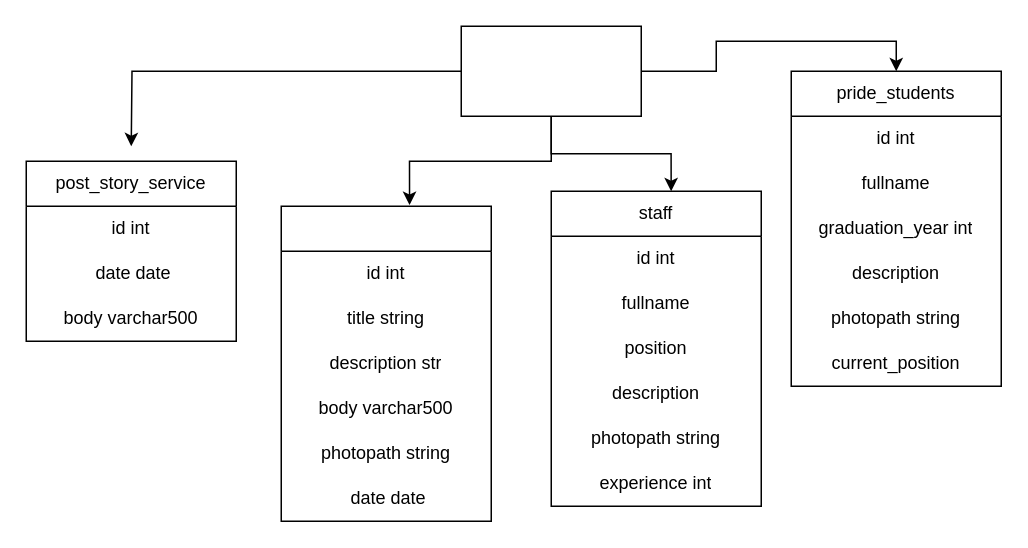
This 1028x548 diagram has some shape labels left out. The box of each missing label's shape, as (x1, y1, x2, y2) in pixels:
API GAteway: (460, 25, 641, 116)
news_blog: (280, 205, 491, 521)
